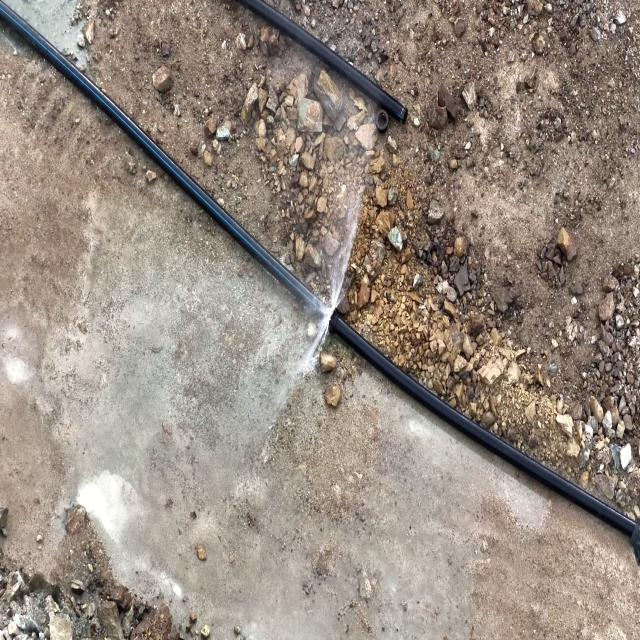leak: (285, 176, 365, 385)
